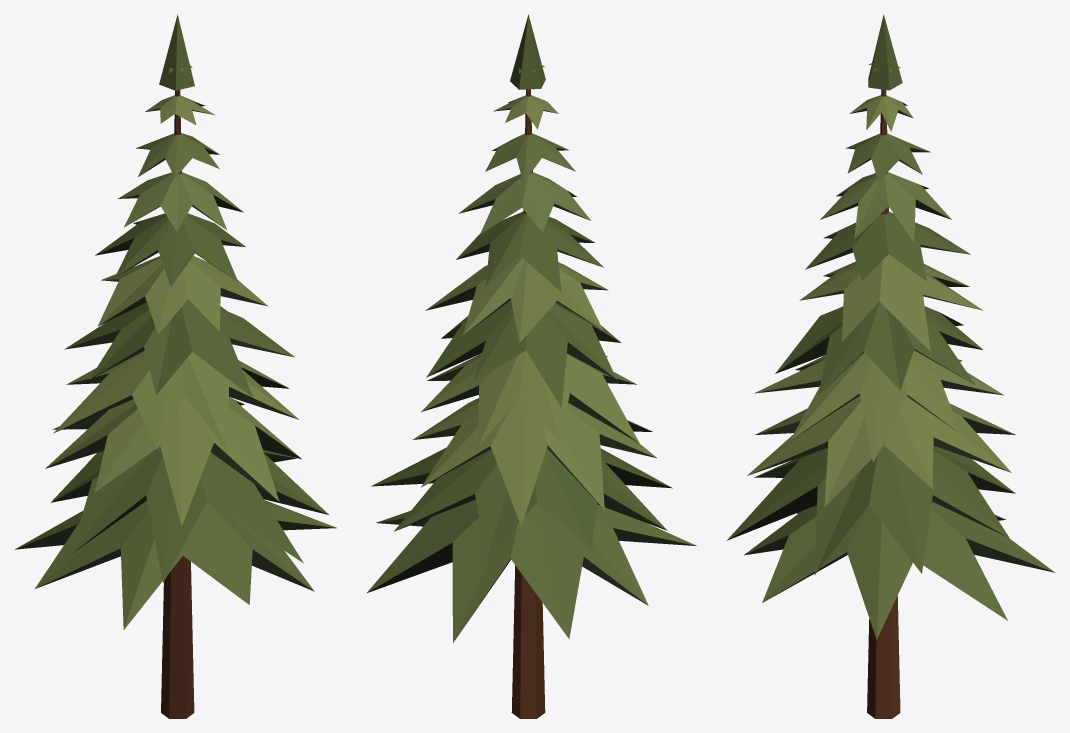
The model's file is mtn_pine.glb.
The picture shows the model from 3 angles, left to right: view 1: azimuth 30°, elevation 25°; view 2: azimuth 150°, elevation 25°; view 3: azimuth 270°, elevation 25°; orthographic projection.
Visible parts, largest first — view 1: mtn_pine; view 2: mtn_pine; view 3: mtn_pine.
Boxes of the visible parts, left/top/right/bottom form: mtn_pine: left=15, top=14, right=336, bottom=718; mtn_pine: left=367, top=14, right=696, bottom=718; mtn_pine: left=726, top=14, right=1055, bottom=718.
Bounding box in the file's own units: 6.13 × 14.2 × 6.07.
